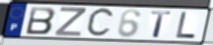6: (116, 8, 142, 39)
B: (24, 6, 57, 35)
C: (85, 6, 117, 39)
L: (174, 11, 198, 40)
T: (150, 11, 173, 39)
Z: (53, 6, 88, 38)
